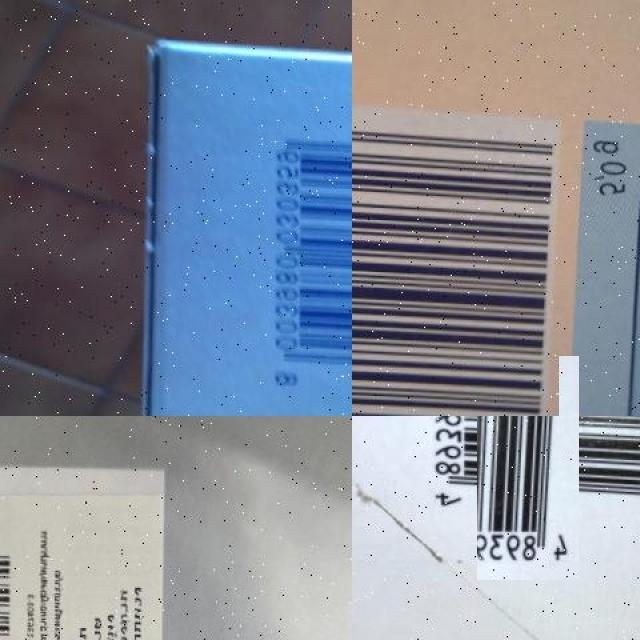Barcode: (352, 100, 559, 416), (251, 114, 352, 394), (446, 386, 610, 549)
